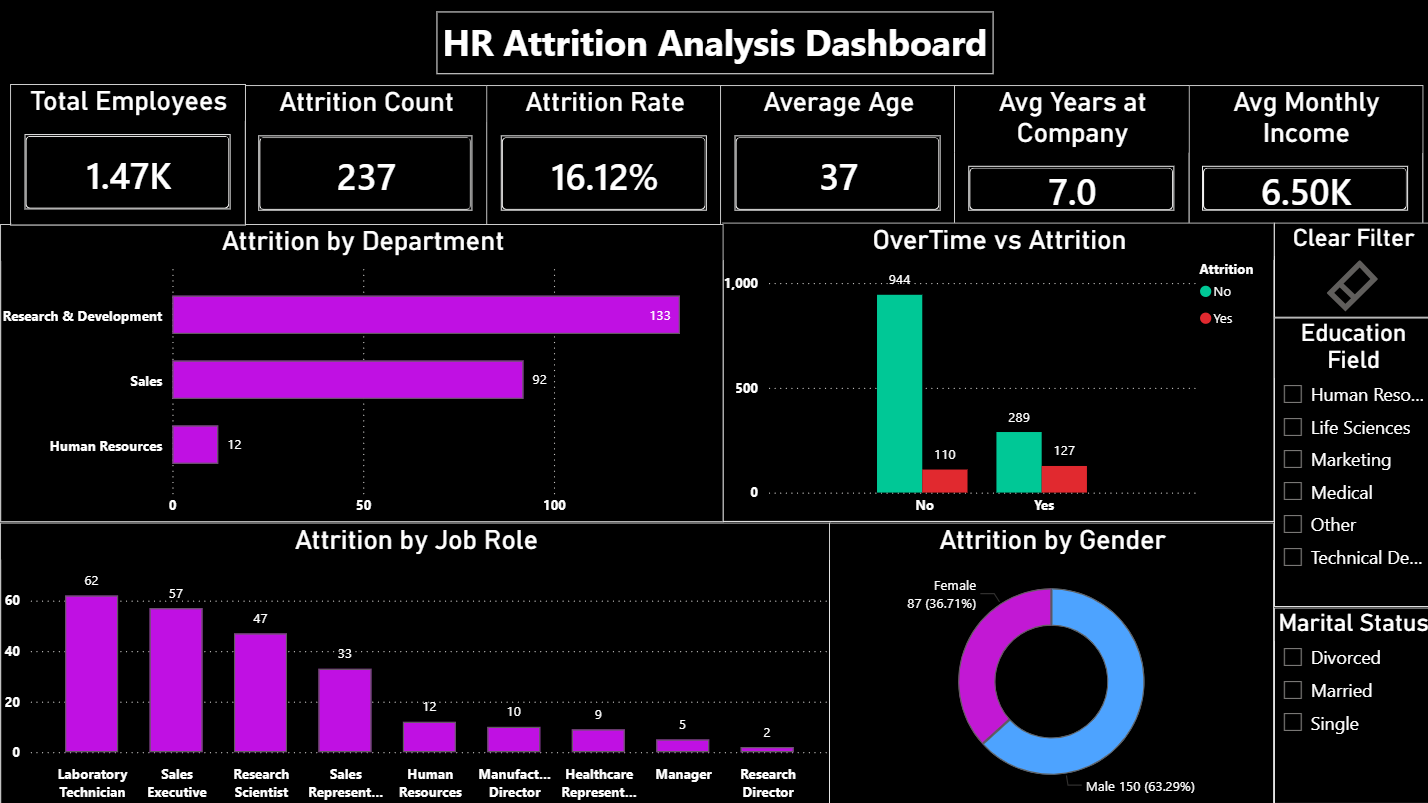

The page's visual inventory and layout, read from the dashboard file:
{"tool":"powerbi","page":{"name":"HR Attrition Analysis","canvas":[1280,720],"ordinal":0},"visuals":[{"type":"cardVisual","title":"Attrition Count","fields":{"Data":["CountNonNull(HR_Attrition_Raw.Attrition)"]},"box":[219.3,76.7,217.4,125.6],"z":0},{"type":"cardVisual","title":"Attrition Rate","fields":{"Data":["HR_Attrition_Raw.Attrition Rate"]},"box":[435.1,76.7,210.5,125.6],"z":1000},{"type":"cardVisual","title":"Average Age","fields":{"Data":["Avg(HR_Attrition_Raw.Age)"]},"box":[644,76.7,210.5,125.6],"z":2000},{"type":"cardVisual","title":"Avg Monthly Income","fields":{"Data":["Avg(HR_Attrition_Raw.MonthlyIncome)"]},"box":[1061.6,76.7,210.5,125.6],"z":3000},{"type":"cardVisual","title":"Avg Years at Company","fields":{"Data":["Avg(HR_Attrition_Raw.YearsAtCompany)"]},"box":[852.8,76.7,210.5,125.6],"z":4000},{"type":"clusteredBarChart","title":"Attrition by Department","fields":{"Category":["HR_Attrition_Raw.Department"],"Y":["CountNonNull(HR_Attrition_Raw.EmployeeNumber)"]},"box":[1.2,201.2,646.5,266.3],"z":5000},{"type":"clusteredColumnChart","title":"OverTime vs Attrition","fields":{"Category":["HR_Attrition_Raw.OverTime"],"Series":["HR_Attrition_Raw.Attrition"],"Y":["CountNonNull(HR_Attrition_Raw.EmployeeNumber)"]},"box":[646.5,200,493,267.4],"z":6000},{"type":"clusteredColumnChart","title":"Attrition by Job Role","fields":{"Y":["CountNonNull(HR_Attrition_Raw.EmployeeNumber)"],"Category":["HR_Attrition_Raw.JobRole"],"Series":["HR_Attrition_Raw.Attrition"]},"box":[1.2,467.4,741.9,252.3],"z":7000},{"type":"donutChart","title":"Attrition by Gender","fields":{"Y":["CountNonNull(HR_Attrition_Raw.EmployeeNumber)"],"Category":["HR_Attrition_Raw.Gender"]},"box":[741.9,467.4,397.7,252.3],"z":8000},{"type":"cardVisual","title":"Total Employees","fields":{"Data":["CountNonNull(HR_Attrition_Raw.EmployeeCount)"]},"box":[9.6,75.6,210.1,126.1],"z":9000},{"type":"slicer","title":"Marital Status","fields":{"Values":["HR_Attrition_Raw.MaritalStatus"]},"box":[1139.5,544,140.5,175.3],"z":10000},{"type":"slicer","title":"Education Field","fields":{"Values":["HR_Attrition_Raw.EducationField"]},"box":[1139.5,285.2,140.5,258.8],"z":11000},{"type":"textbox","box":[391.2,11.6,497.7,55.8],"z":12000},{"type":"actionButton","title":"Clear Filter","box":[1139,199.9,140.7,84.9],"z":13000}]}

Visuals, with their boxes in screenshot pixels (x1, y1, x2, y2), scaled from the page's 1280x720 canvas onto the 1428x803 screenshot:
"Attrition Count" cardVisual: bbox=[245, 86, 487, 226]
"Attrition Rate" cardVisual: bbox=[485, 86, 720, 226]
"Average Age" cardVisual: bbox=[718, 86, 953, 226]
"Avg Monthly Income" cardVisual: bbox=[1184, 86, 1419, 226]
"Avg Years at Company" cardVisual: bbox=[951, 86, 1186, 226]
"Attrition by Department" clusteredBarChart: bbox=[1, 224, 723, 521]
"OverTime vs Attrition" clusteredColumnChart: bbox=[721, 223, 1271, 521]
"Attrition by Job Role" clusteredColumnChart: bbox=[1, 521, 829, 802]
"Attrition by Gender" donutChart: bbox=[828, 521, 1271, 802]
"Total Employees" cardVisual: bbox=[11, 84, 245, 225]
"Marital Status" slicer: bbox=[1271, 607, 1427, 802]
"Education Field" slicer: bbox=[1271, 318, 1427, 607]
textbox: bbox=[436, 13, 992, 75]
"Clear Filter" actionButton: bbox=[1271, 223, 1427, 318]
